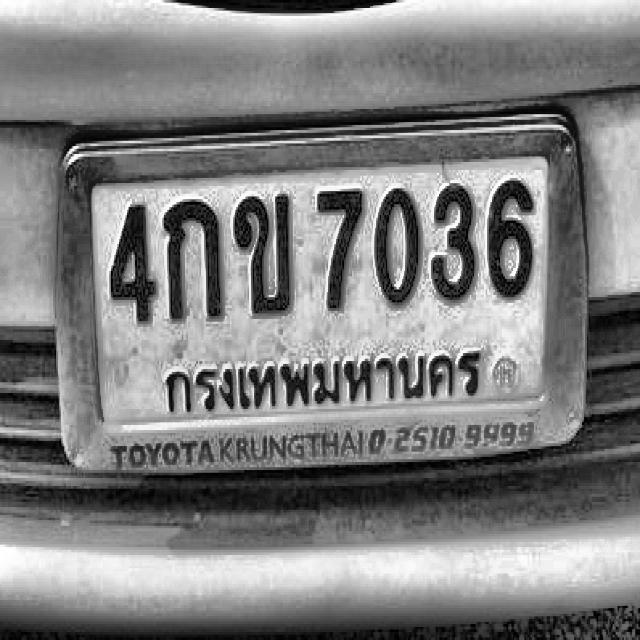license-plate: (48, 114, 594, 456)
